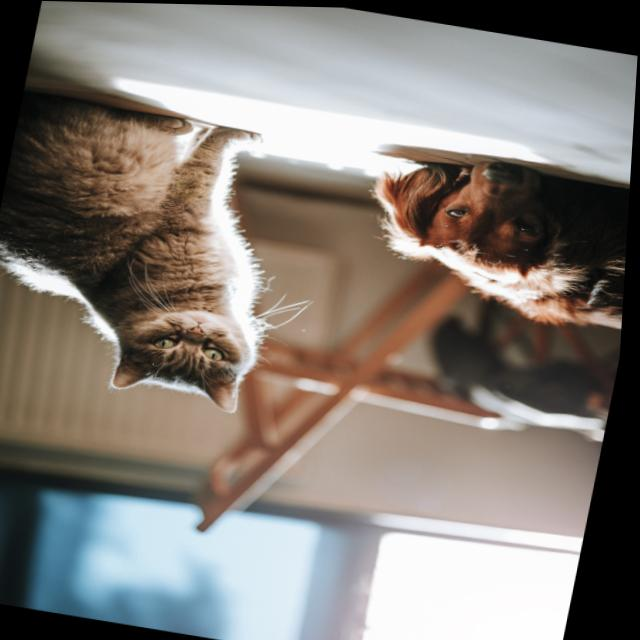Cat: (0, 95, 303, 414)
Dog: (355, 144, 634, 323)
